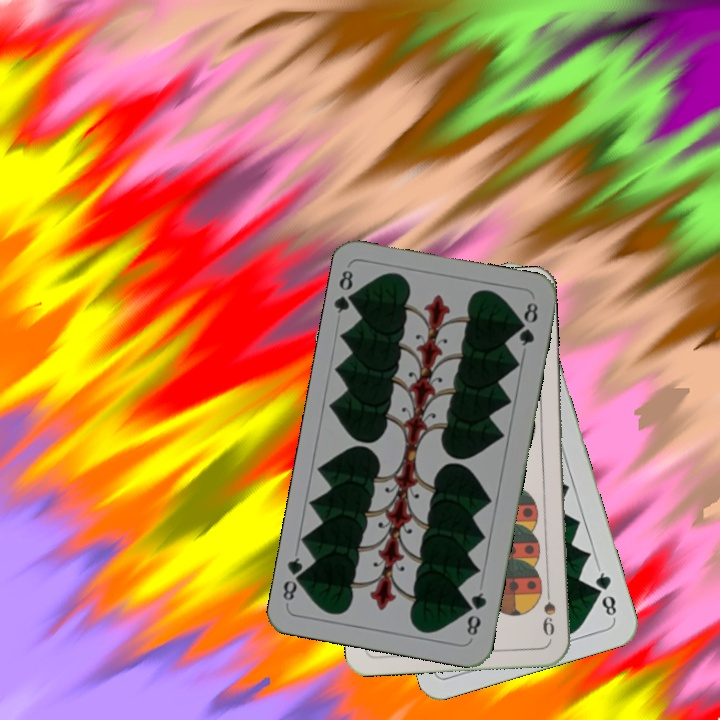G8: (591, 563, 619, 621), (331, 266, 361, 316), (463, 588, 489, 639)
S9: (539, 581, 558, 638)
